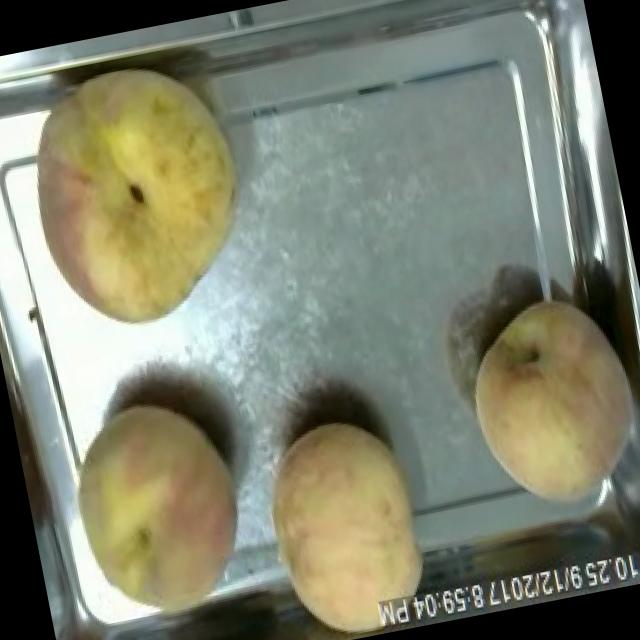Fruit: (4, 43, 275, 351), (42, 377, 269, 640), (241, 398, 453, 640), (444, 276, 640, 535)
